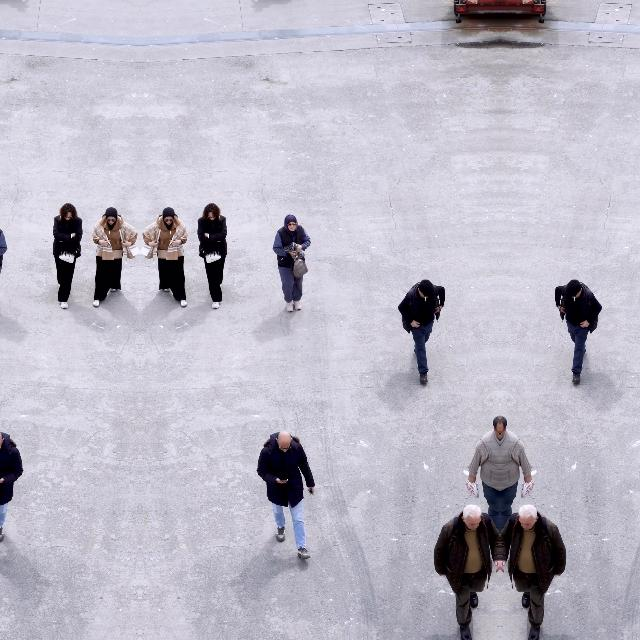person: (434, 504, 501, 640), (499, 504, 566, 640), (256, 431, 316, 561), (398, 279, 446, 385), (554, 279, 602, 385), (142, 206, 188, 308), (92, 206, 138, 308), (466, 416, 499, 536), (501, 416, 534, 536), (272, 214, 312, 312), (196, 202, 228, 310), (52, 202, 84, 310), (0, 431, 24, 561), (0, 213, 7, 312)
